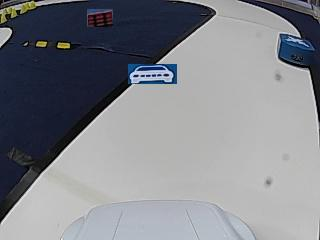prop: (278, 33, 315, 68)
